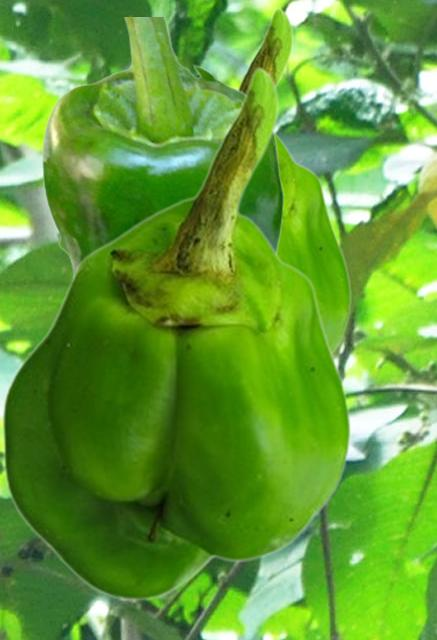bell_pepper: (0, 65, 351, 600), (71, 6, 351, 356), (40, 17, 284, 273)
